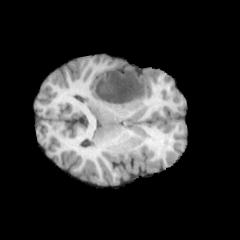glioma: (91, 68, 146, 104)
